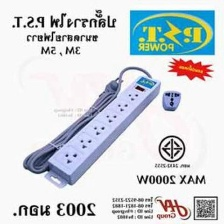three_eye_plug: (45, 73, 163, 187), (161, 87, 184, 114)
